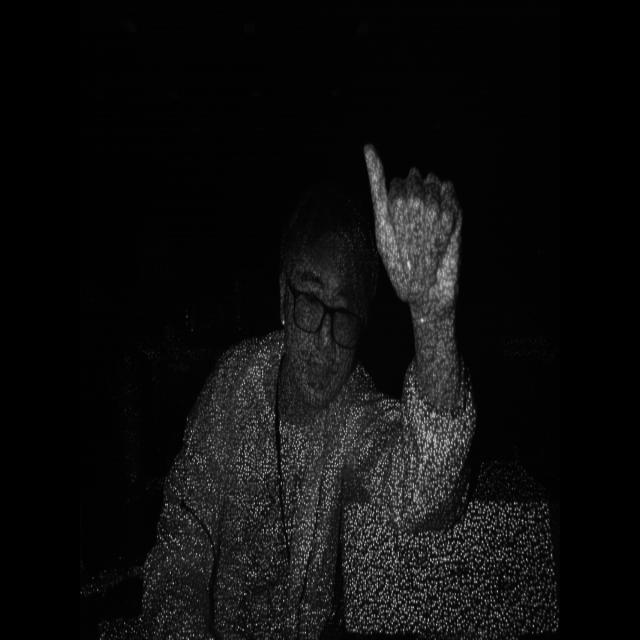A: (360, 125, 495, 362)
